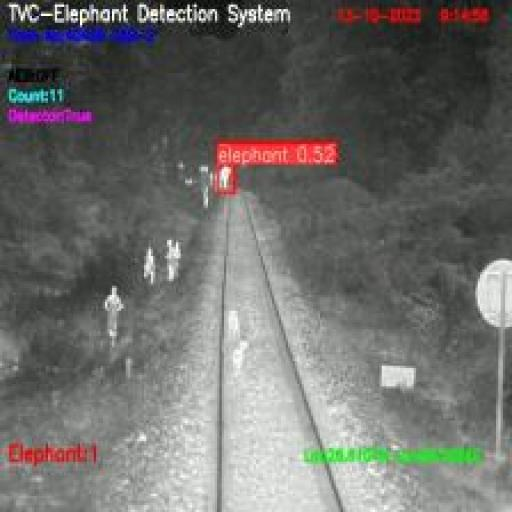Elephant: (217, 165, 232, 192)
